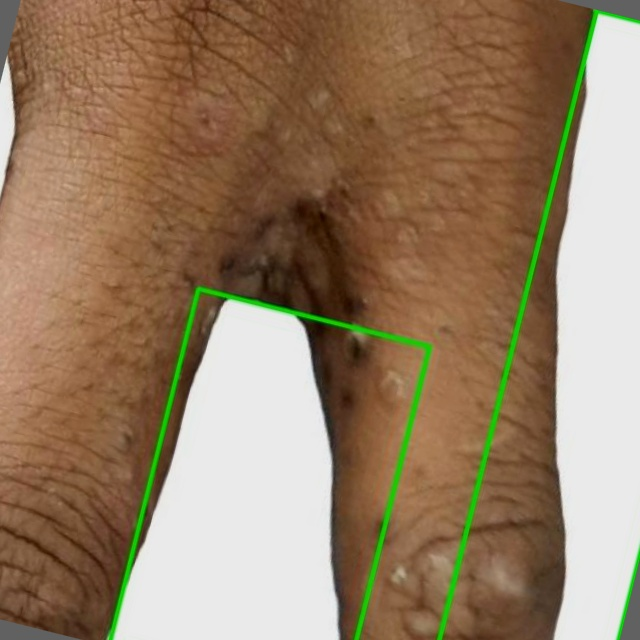Scabies: (109, 288, 428, 639)
